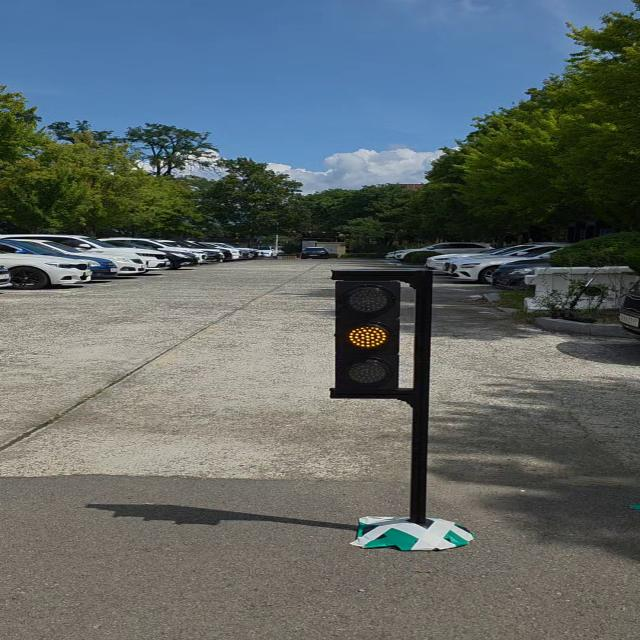yellow: (332, 274, 402, 398)
